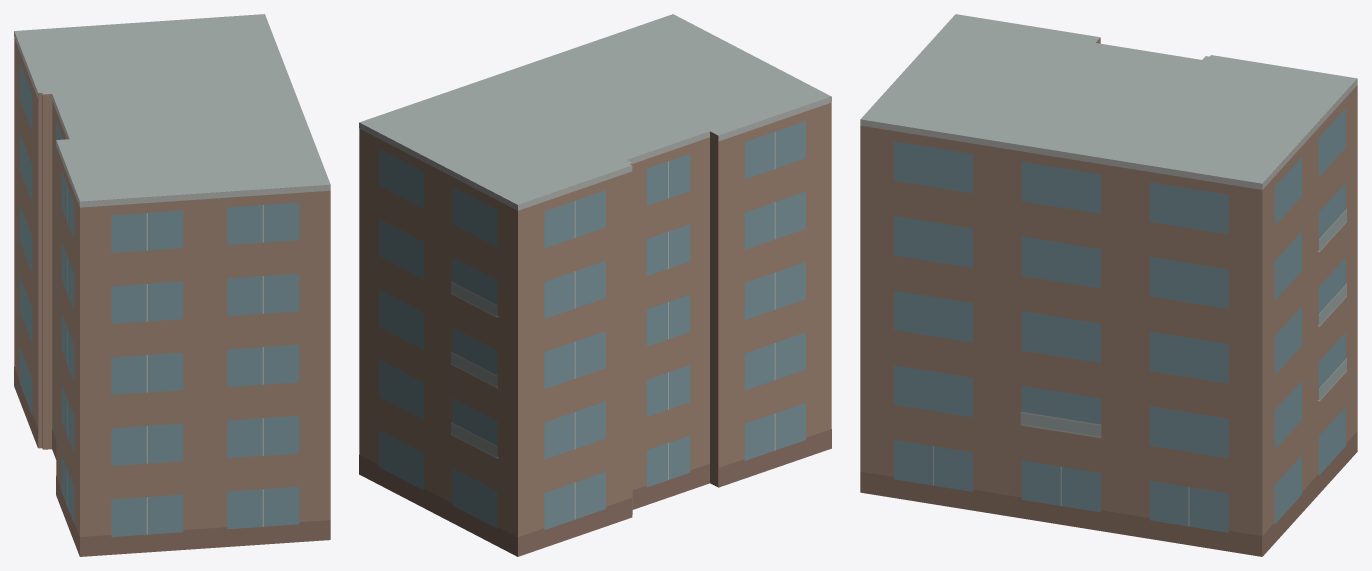
The model's file is survey-upis-33013389.glb.
3 renders of one model, left to right at view 1: azimuth 30°, elevation 25°; view 2: azimuth 150°, elevation 25°; view 3: azimuth 270°, elevation 25°, orthographic. The views are drawn at different scales.
Visible parts, largest first — view 1: survey-upis-33013389.tmp; view 2: survey-upis-33013389.tmp; view 3: survey-upis-33013389.tmp.
Part boxes in pixels (x1=…): survey-upis-33013389.tmp: x1=14, y1=14, x2=330, y2=556; survey-upis-33013389.tmp: x1=359, y1=14, x2=831, y2=556; survey-upis-33013389.tmp: x1=860, y1=14, x2=1357, y2=556.
Bounding box in the file's own units: 14.15 × 14.5 × 17.52.
